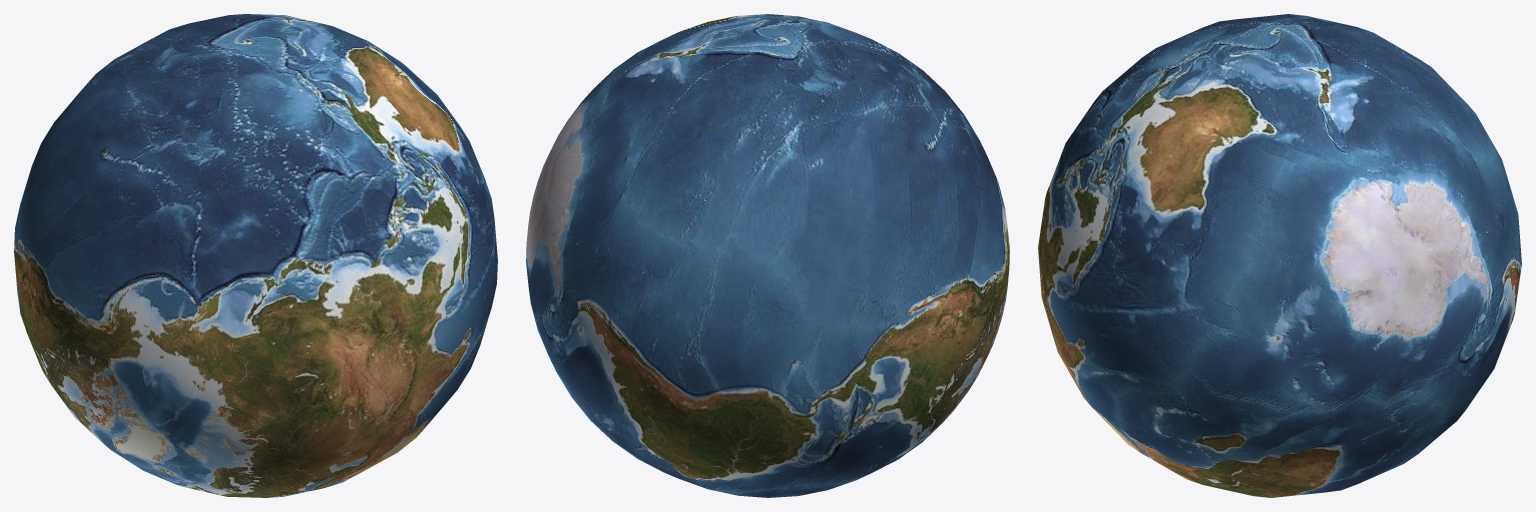
Rendered from earth.fbx.
The picture shows the model from 3 angles, left to right: view 1: azimuth 30°, elevation 25°; view 2: azimuth 150°, elevation 25°; view 3: azimuth 270°, elevation 25°; orthographic projection.
Parts seen in each view (by area): view 1: Sphere; view 2: Sphere; view 3: Sphere.
Boxes of the visible parts, bbox=[...] form: Sphere: bbox=[14, 14, 497, 497]; Sphere: bbox=[526, 14, 1009, 497]; Sphere: bbox=[1038, 14, 1521, 497].
Size of the model in its own units: 0.9986 by 0.9982 by 0.9987.
Materials: 1 (1 with a texture image).
